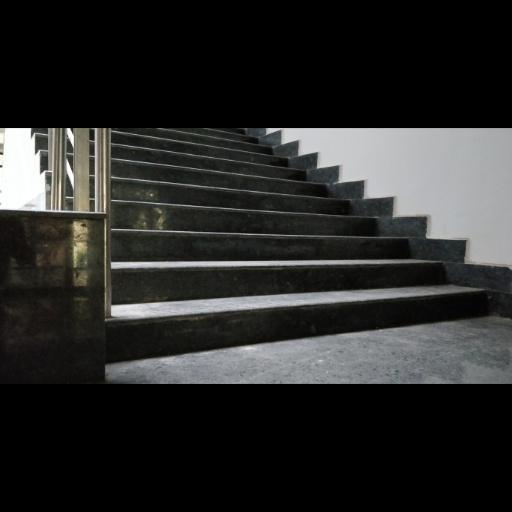stairs: (106, 128, 486, 361)
